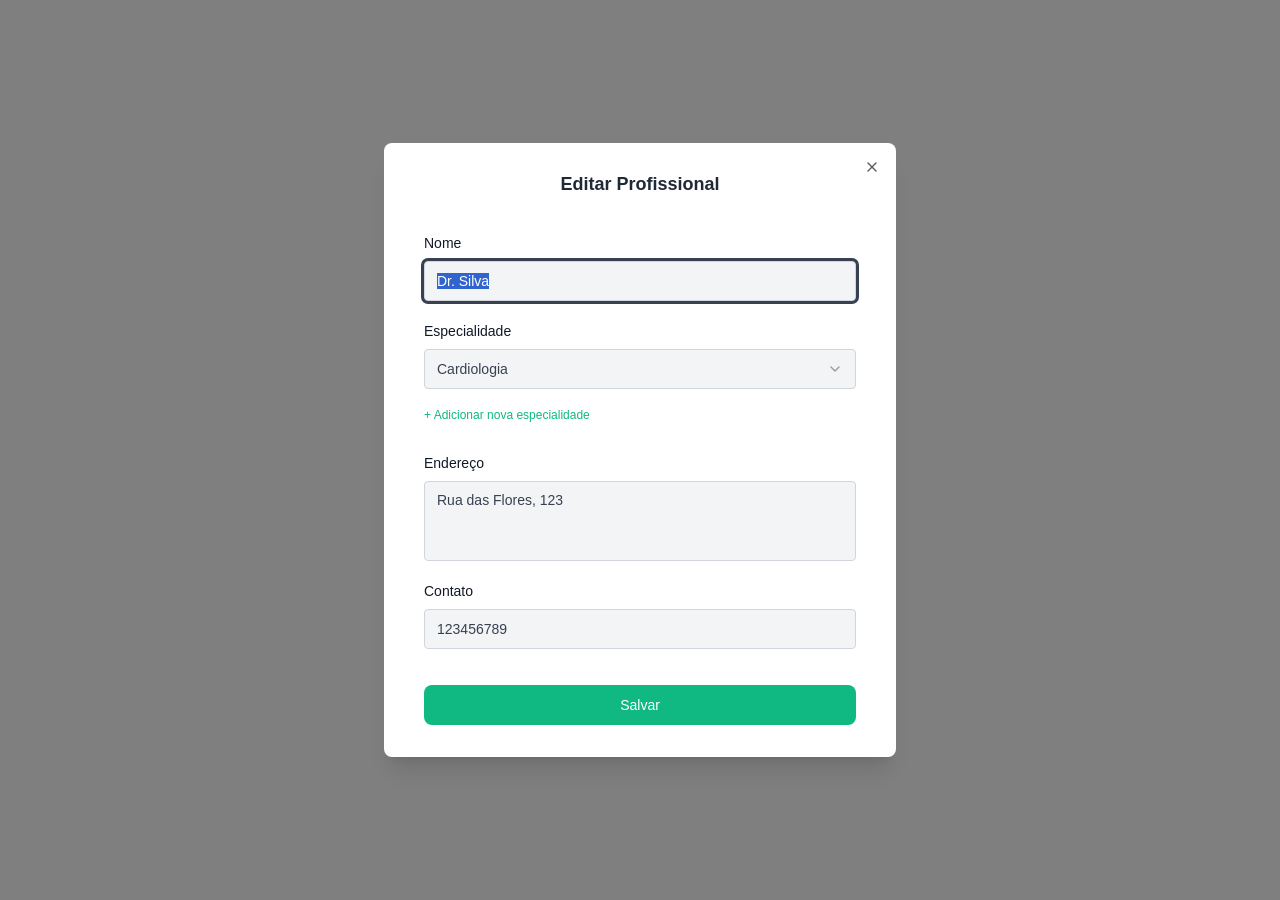
Test: EditProfessionalModal › updates local specialties when fetched
Note: Abre o select para garantir que as opções estejam no DOM
Click the dropdown at point(472, 369), box [424,349,856,389]
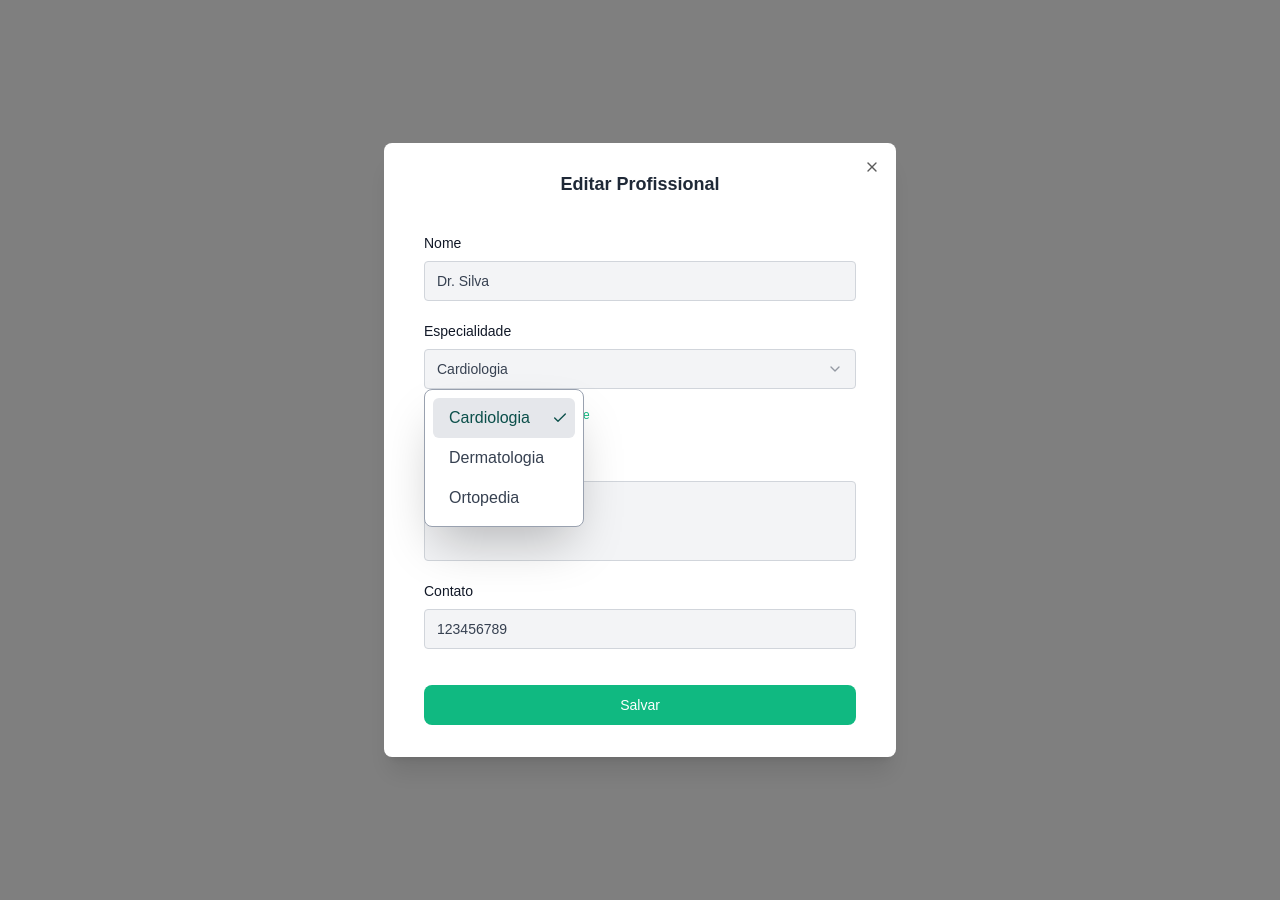
Expected: the text "Cardiologia" below "Nome" is shown, [437,361,508,377]
Expected: the text "Dermatologia" is shown, [449,446,544,470]
Expected: the text "Ortopedia" is shown, [449,486,519,510]
